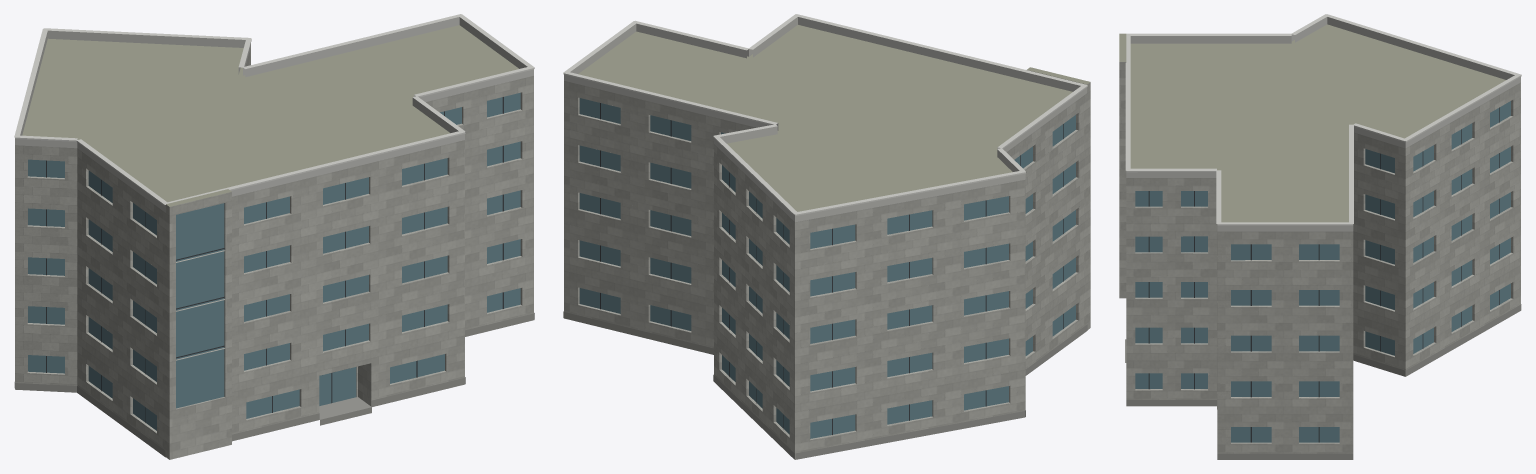
3 views of the same model, side by side, from view 1: azimuth 30°, elevation 25°; view 2: azimuth 150°, elevation 25°; view 3: azimuth 270°, elevation 25° (orthographic). The views are drawn at different scales.
Visible parts, largest first — view 1: artC__wall, artC__roof, artC__glass, artC__parapet, artC__trim, artC__base, artC__frame; view 2: artC__wall, artC__roof, artC__glass, artC__parapet, artC__trim, artC__base, artC__frame; view 3: artC__wall, artC__roof, artC__glass, artC__parapet, artC__trim, artC__base, artC__frame.
Part boxes in pixels (left/top/right/bottom): artC__wall: left=15, top=47, right=533, bottom=459; artC__roof: left=22, top=25, right=518, bottom=457; artC__glass: left=28, top=92, right=520, bottom=430; artC__parapet: left=15, top=17, right=533, bottom=212; artC__trim: left=14, top=14, right=534, bottom=205; artC__base: left=14, top=313, right=534, bottom=456; artC__frame: left=46, top=97, right=503, bottom=422; artC__wall: left=564, top=70, right=1090, bottom=459; artC__roof: left=578, top=25, right=1090, bottom=211; artC__glass: left=579, top=98, right=1075, bottom=438; artC__parapet: left=564, top=17, right=1086, bottom=222; artC__trim: left=563, top=14, right=1087, bottom=215; artC__base: left=563, top=311, right=1087, bottom=459; artC__frame: left=600, top=103, right=1063, bottom=434; artC__wall: left=1119, top=62, right=1520, bottom=453; artC__roof: left=1119, top=24, right=1505, bottom=376; artC__glass: left=1135, top=101, right=1510, bottom=442; artC__parapet: left=1126, top=17, right=1520, bottom=231; artC__trim: left=1125, top=14, right=1521, bottom=225; artC__base: left=1125, top=304, right=1521, bottom=459; artC__frame: left=1148, top=107, right=1499, bottom=442.
Size of the model in its own units: 35.62 by 19.05 by 28.77.
Materials: 8 (1 with a texture image).
